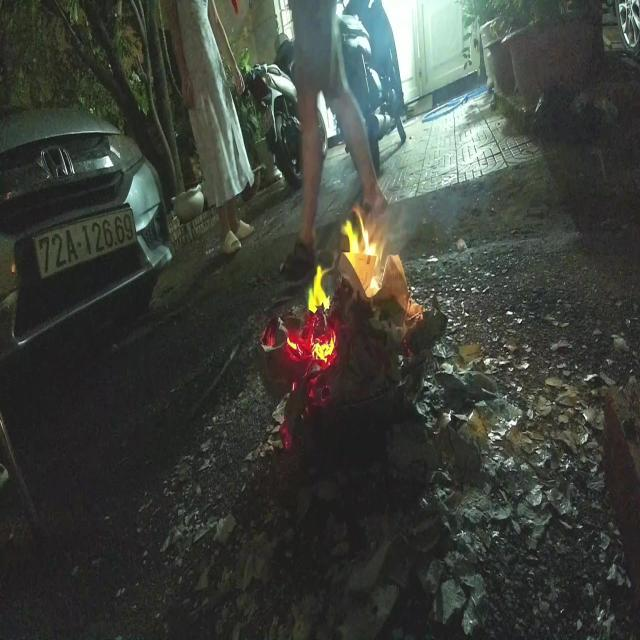Fire: (286, 197, 388, 359)
